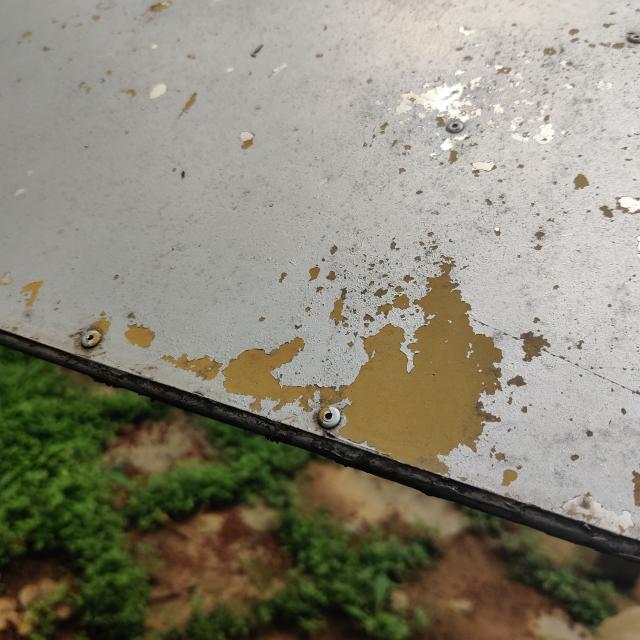paint-off: (122, 230, 559, 500)
